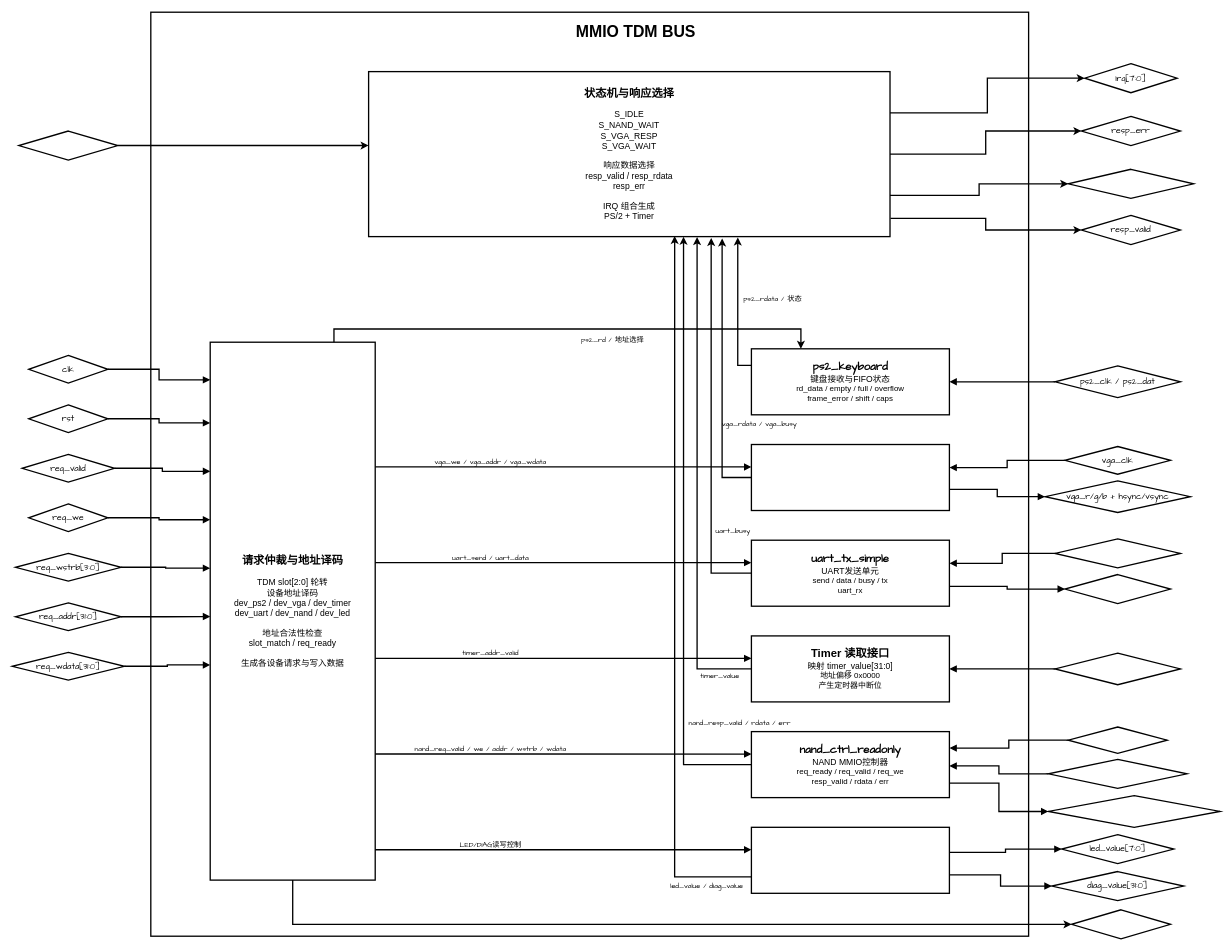
This 1232x950 diagram has some shape labels left out. Here are the shapes that lost their labels. From the top down, the centre of each, then its label:
(68,145): resp_ready
(1130,183): resp_rdata[31:0]
(850,477): vga_text 字符显存与VGA时序 cpu_addr / cpu_wdata / cpu_rdata cpu_we / cpu_busy
(1117,553): uart_rx
(1117,589): uart_tx
(1117,668): timer_value[31:0]
(1117,740): nand_rdy
(1117,773): nand_d[7:0]（inout）
(1133,811): nand_cle/ale/ce_n/re_n/we_n/wp_n
(850,860): LED / DIAG 寄存器 led_value[7:0] diag_value[31:0] 偏移 0x0000 / 0x0004
(1121,924): req_ready
